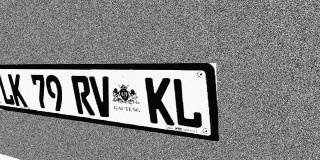7: (30, 74, 51, 110)
9: (44, 75, 67, 112)
K: (145, 77, 174, 126), (7, 74, 28, 107)
L: (171, 78, 203, 129), (0, 74, 16, 106)
R: (71, 75, 95, 116)
V: (89, 76, 115, 118)
